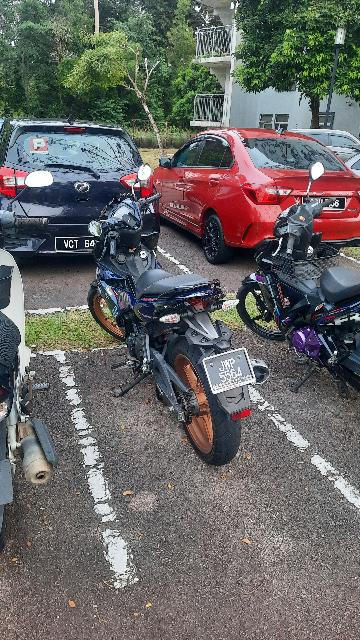License_Plate: (191, 339, 264, 398)
car: (144, 129, 360, 257), (3, 112, 156, 254)
motorcycle: (74, 160, 277, 467), (232, 166, 360, 398), (2, 197, 53, 545)
